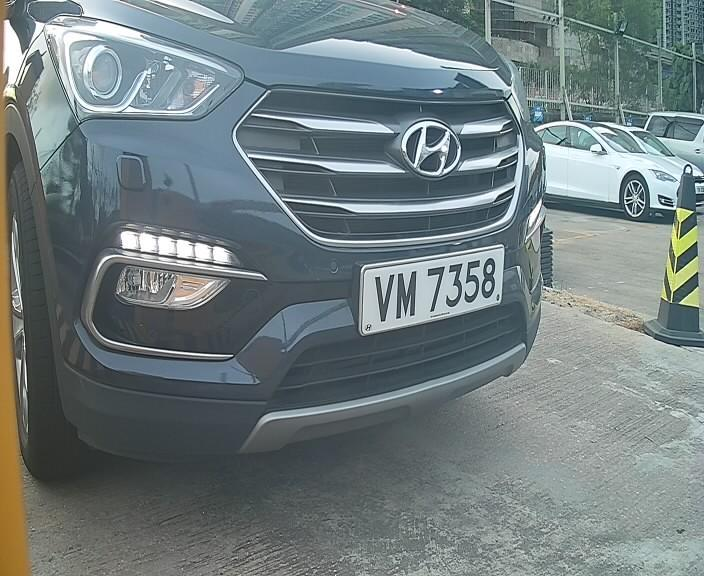Car: (7, 6, 613, 476)
License Plate: (349, 240, 506, 340)
